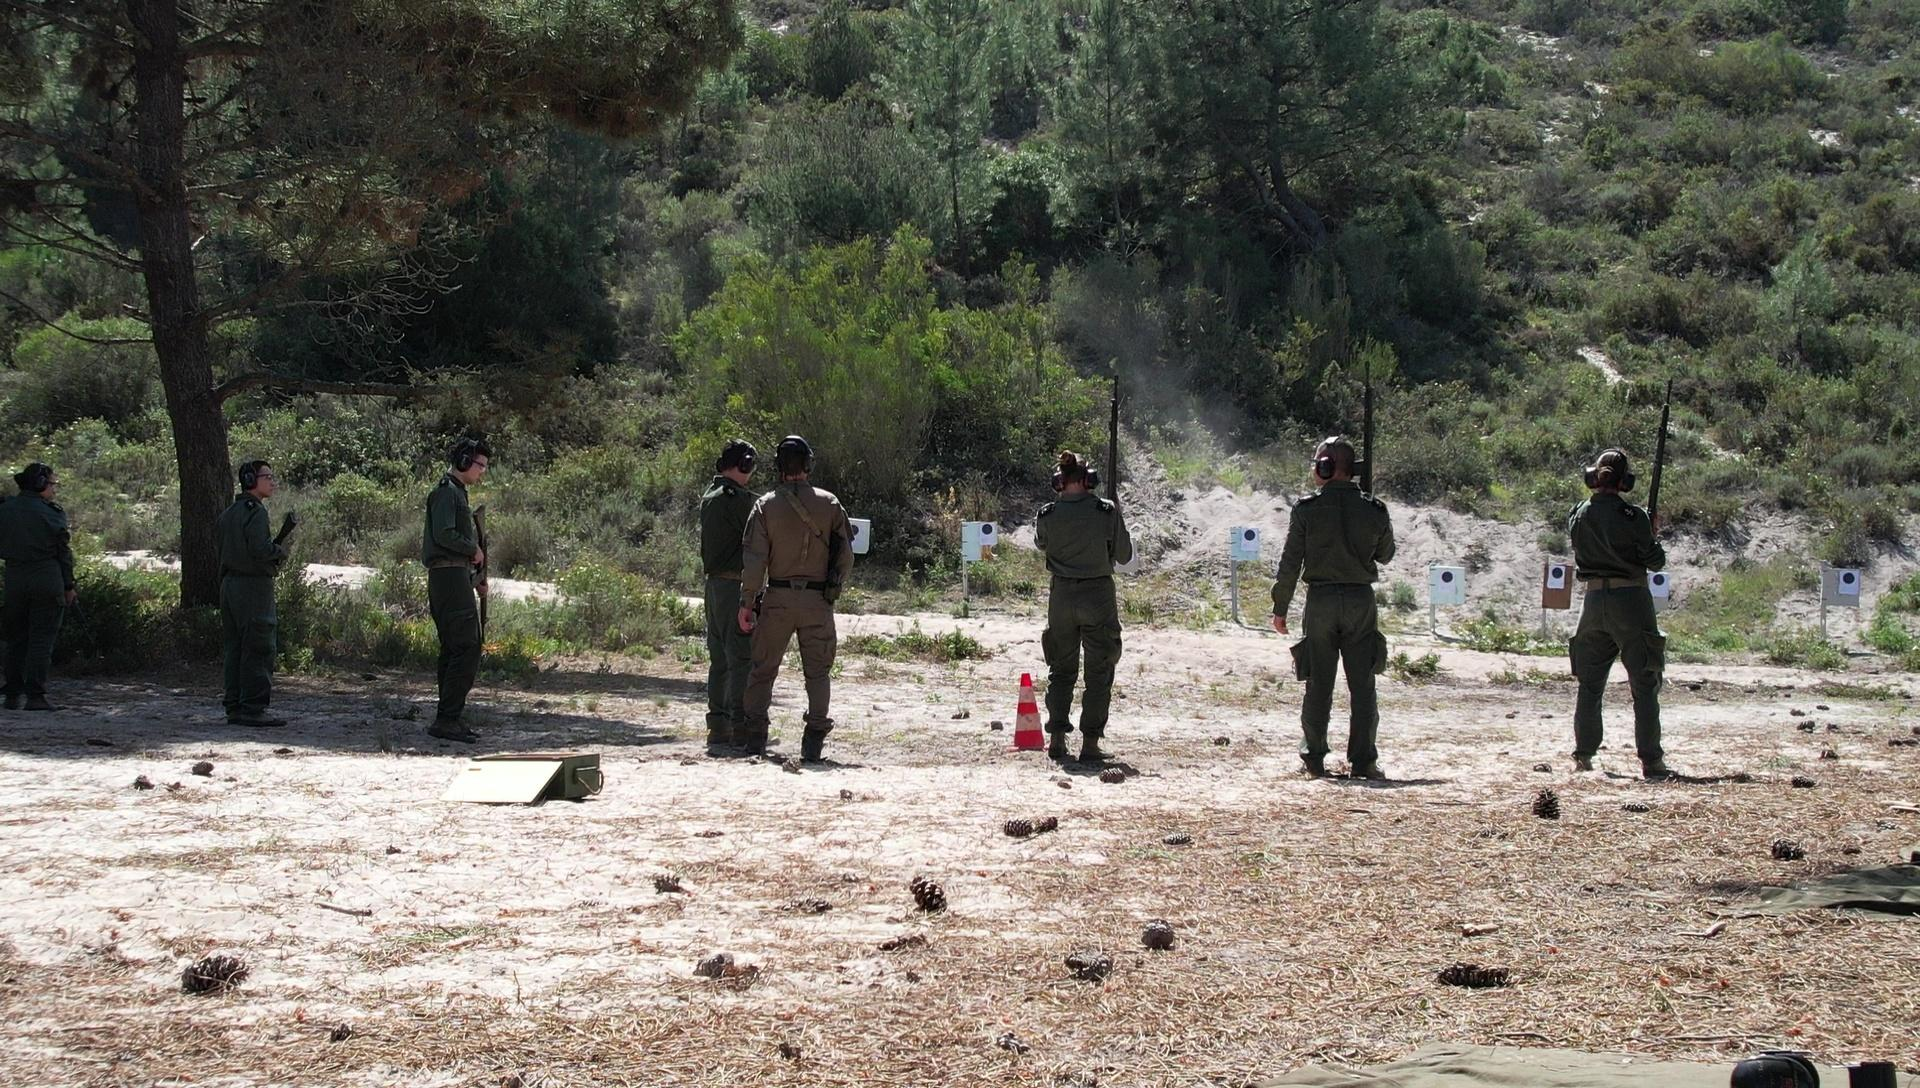Soldier: (1263, 343, 1420, 790), (1544, 400, 1698, 808), (171, 455, 298, 752), (740, 431, 855, 749), (1034, 433, 1130, 793), (683, 471, 791, 778), (411, 448, 504, 758), (0, 446, 88, 737)
